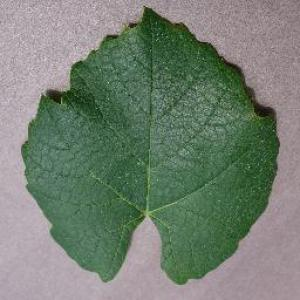Folha: (20, 5, 280, 284)
